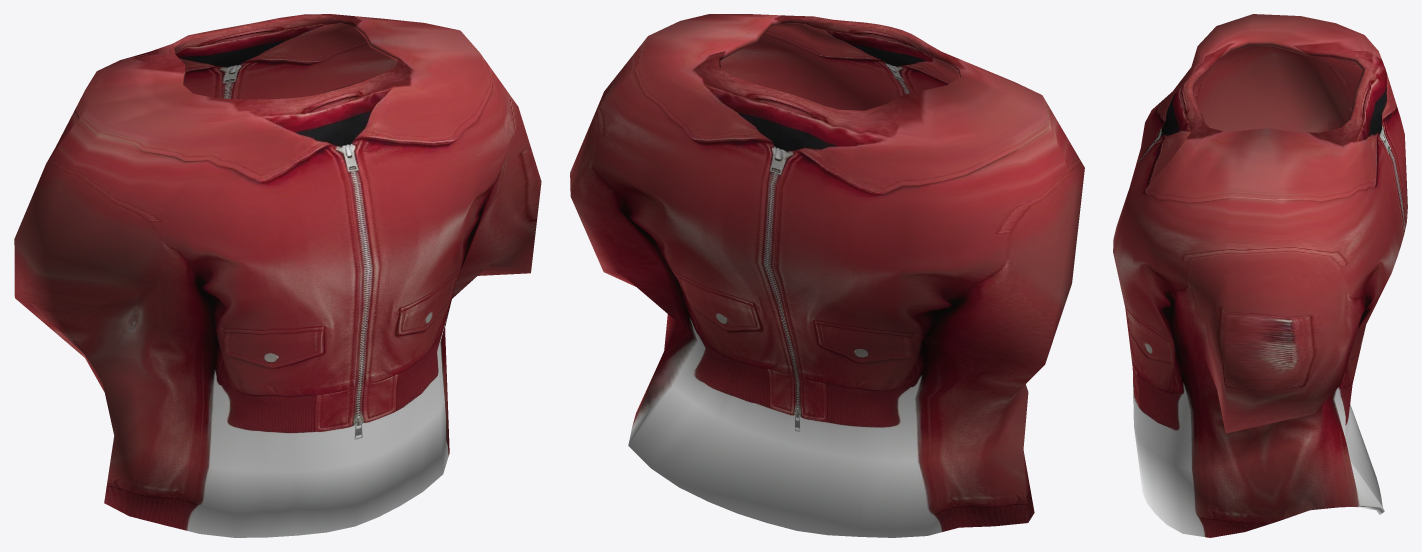
3 renders of one model, left to right at view 1: azimuth 30°, elevation 25°; view 2: azimuth 150°, elevation 25°; view 3: azimuth 270°, elevation 25°, orthographic. The views are drawn at different scales.
Visible parts, largest first — view 1: garment; view 2: garment; view 3: garment.
Part boxes in pixels (<box>): garment: <box>14,14,541,537</box>; garment: <box>570,14,1084,537</box>; garment: <box>1113,14,1407,537</box>.
Bounding box in the file's own units: 0.5996 × 0.4901 × 0.3248.
1 material, 1 textured.
